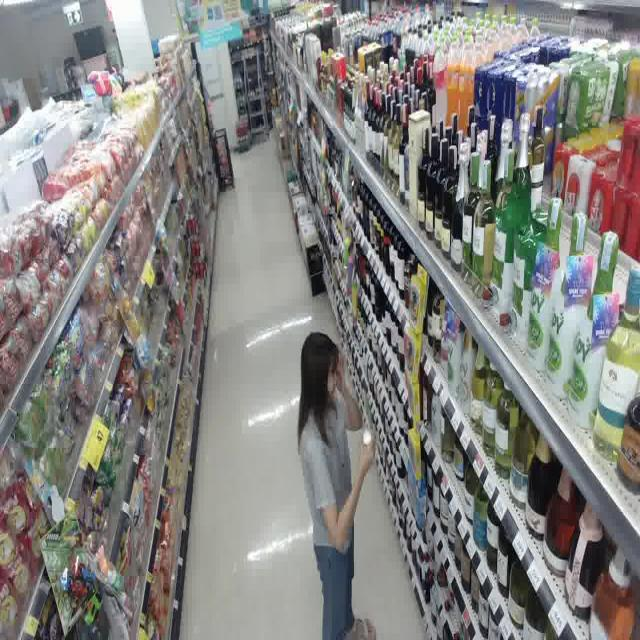pickup: (281, 307, 392, 640)
